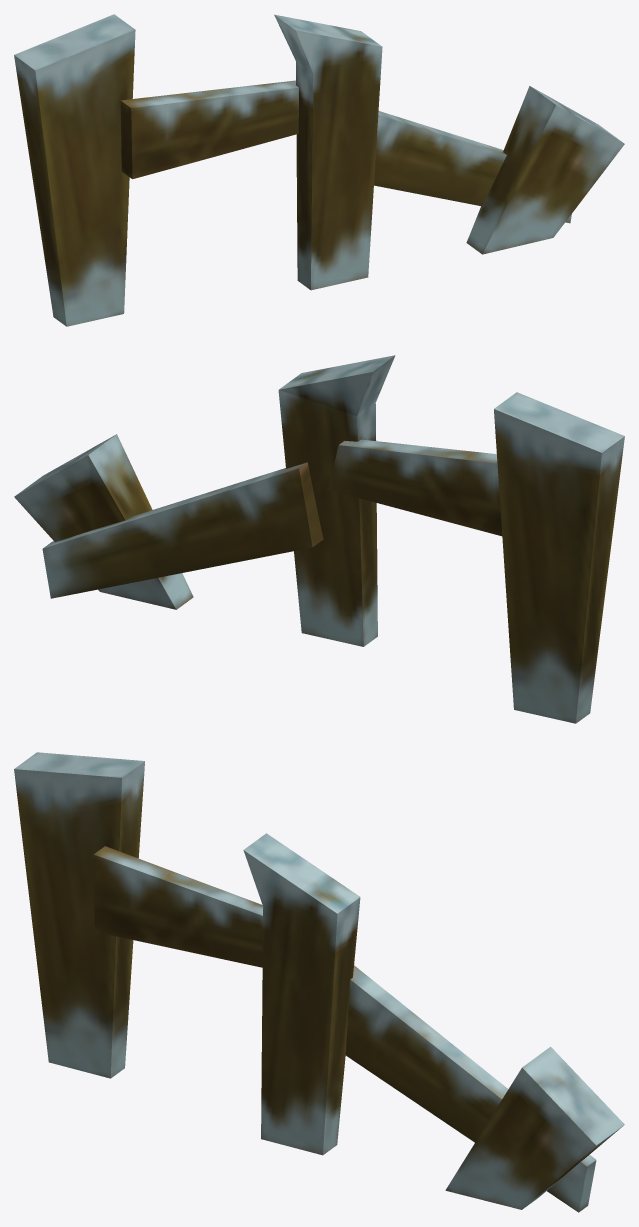
Rendered from Stage_ZhuCheng_LiBa04.FBX.
The picture shows the model from 3 angles, top to bottom: view 1: azimuth 30°, elevation 25°; view 2: azimuth 150°, elevation 25°; view 3: azimuth 330°, elevation 25°; orthographic projection. The views are drawn at different scales.
Parts seen in each view (by area): view 1: Stage_ZhuCheng_LiBa04; view 2: Stage_ZhuCheng_LiBa04; view 3: Stage_ZhuCheng_LiBa04.
Boxes of the visible parts, bbox=[...] form: Stage_ZhuCheng_LiBa04: bbox=[14, 14, 624, 326]; Stage_ZhuCheng_LiBa04: bbox=[14, 355, 624, 723]; Stage_ZhuCheng_LiBa04: bbox=[14, 752, 624, 1212].
Size of the model in its own units: 160 by 79.73 by 22.75.
